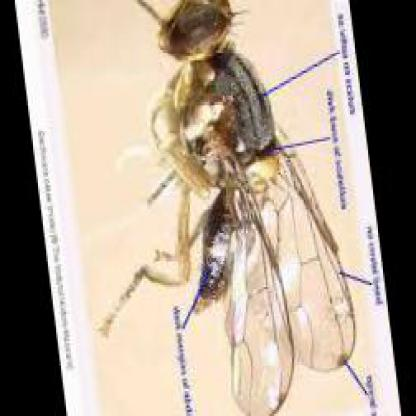fruit fly: (99, 2, 360, 414)
